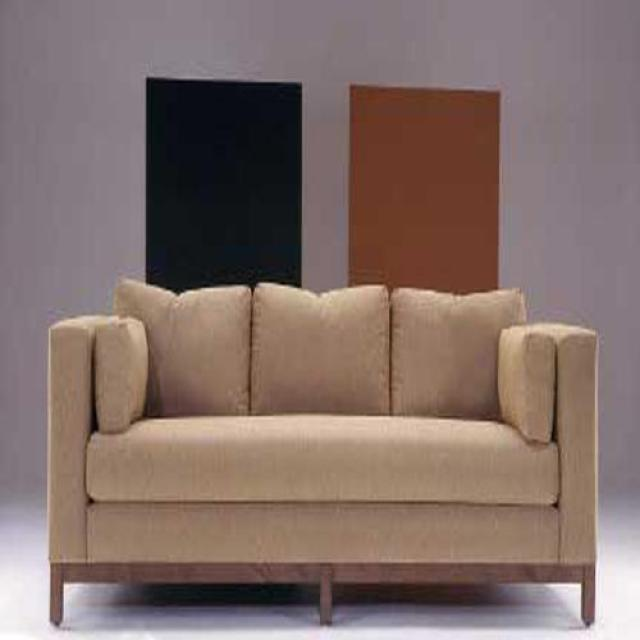sofa: (46, 280, 600, 625)
